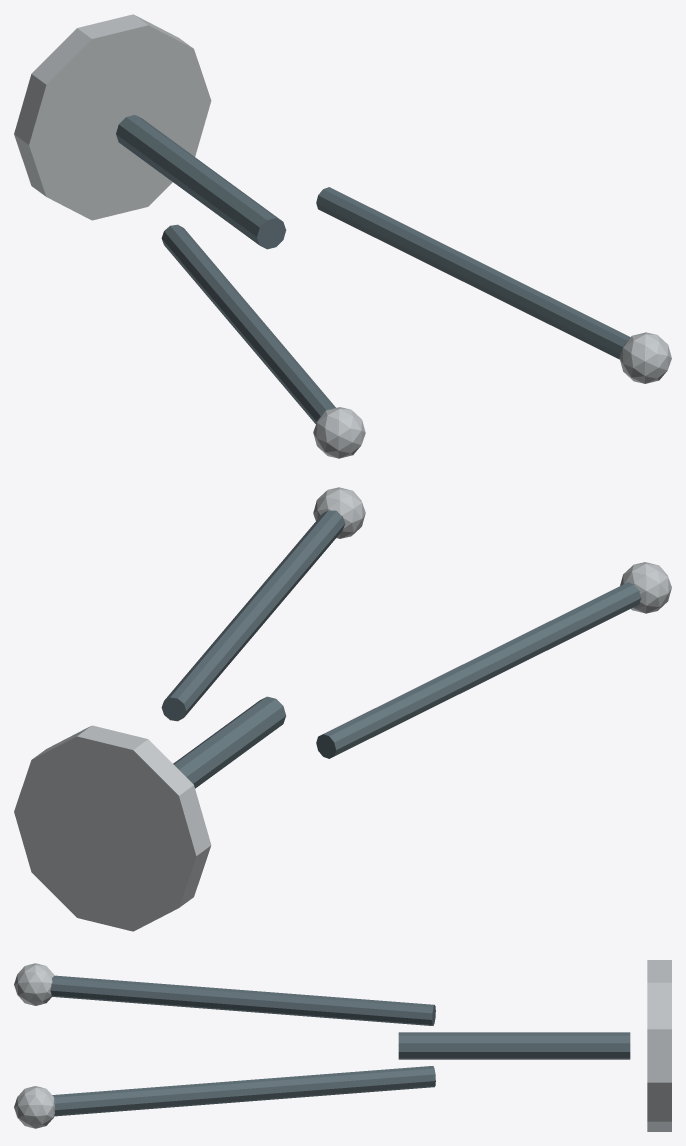
File: stethoscope-low.glb
3 views of the same model, one above another, from view 1: azimuth 30°, elevation 25°; view 2: azimuth 150°, elevation 25°; view 3: azimuth 270°, elevation 25° (orthographic). The views are drawn at different scales.
Visible parts, largest first — view 1: chestpiece, right_tube, main_tube, left_tube, right_earpiece, left_earpiece; view 2: chestpiece, left_tube, right_tube, main_tube, left_earpiece, right_earpiece; view 3: left_tube, right_tube, main_tube, chestpiece, right_earpiece, left_earpiece.
Part boxes in pixels (box(x1,y1,x2,y2)): chestpiece: box(14, 14, 211, 220); right_tube: box(316, 187, 630, 359); main_tube: box(116, 115, 286, 249); left_tube: box(161, 224, 335, 423); right_earpiece: box(619, 332, 671, 383); left_earpiece: box(313, 407, 365, 458); chestpiece: box(14, 725, 211, 931); left_tube: box(316, 582, 641, 758); right_tube: box(161, 510, 345, 721); main_tube: box(173, 696, 286, 788); left_earpiece: box(620, 562, 671, 613); right_earpiece: box(313, 487, 365, 538); left_tube: box(50, 975, 435, 1025); right_tube: box(52, 1066, 435, 1116); main_tube: box(398, 1032, 630, 1059); chestpiece: box(647, 960, 671, 1131); right_earpiece: box(14, 1086, 54, 1128); left_earpiece: box(14, 963, 54, 1005).
Bounding box in the file's own units: 1.08 × 0.5326 × 2.13.
